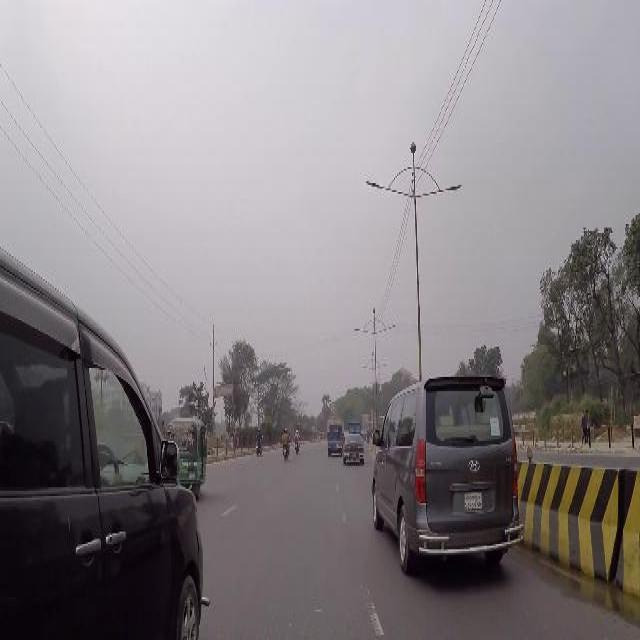bike: (282, 429, 291, 463), (255, 428, 264, 456), (295, 430, 301, 455)
vehicle: (2, 240, 211, 638), (371, 372, 527, 576), (167, 415, 209, 501), (344, 432, 365, 466), (328, 423, 345, 457)
